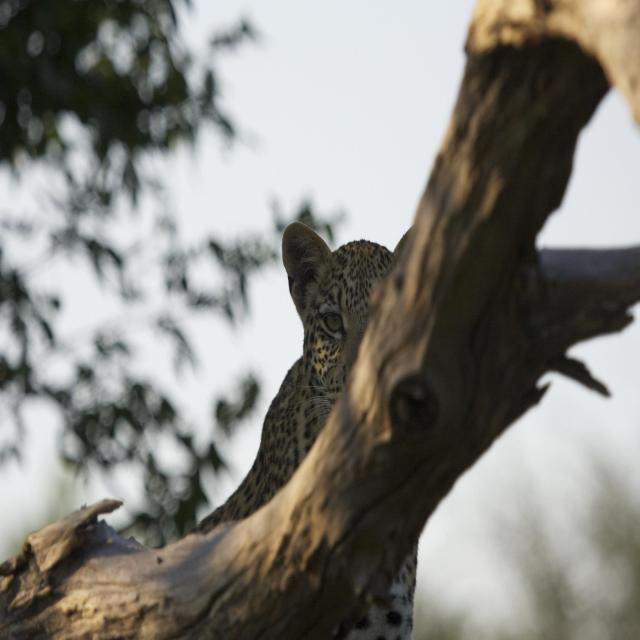Leopard: (193, 218, 422, 640)
